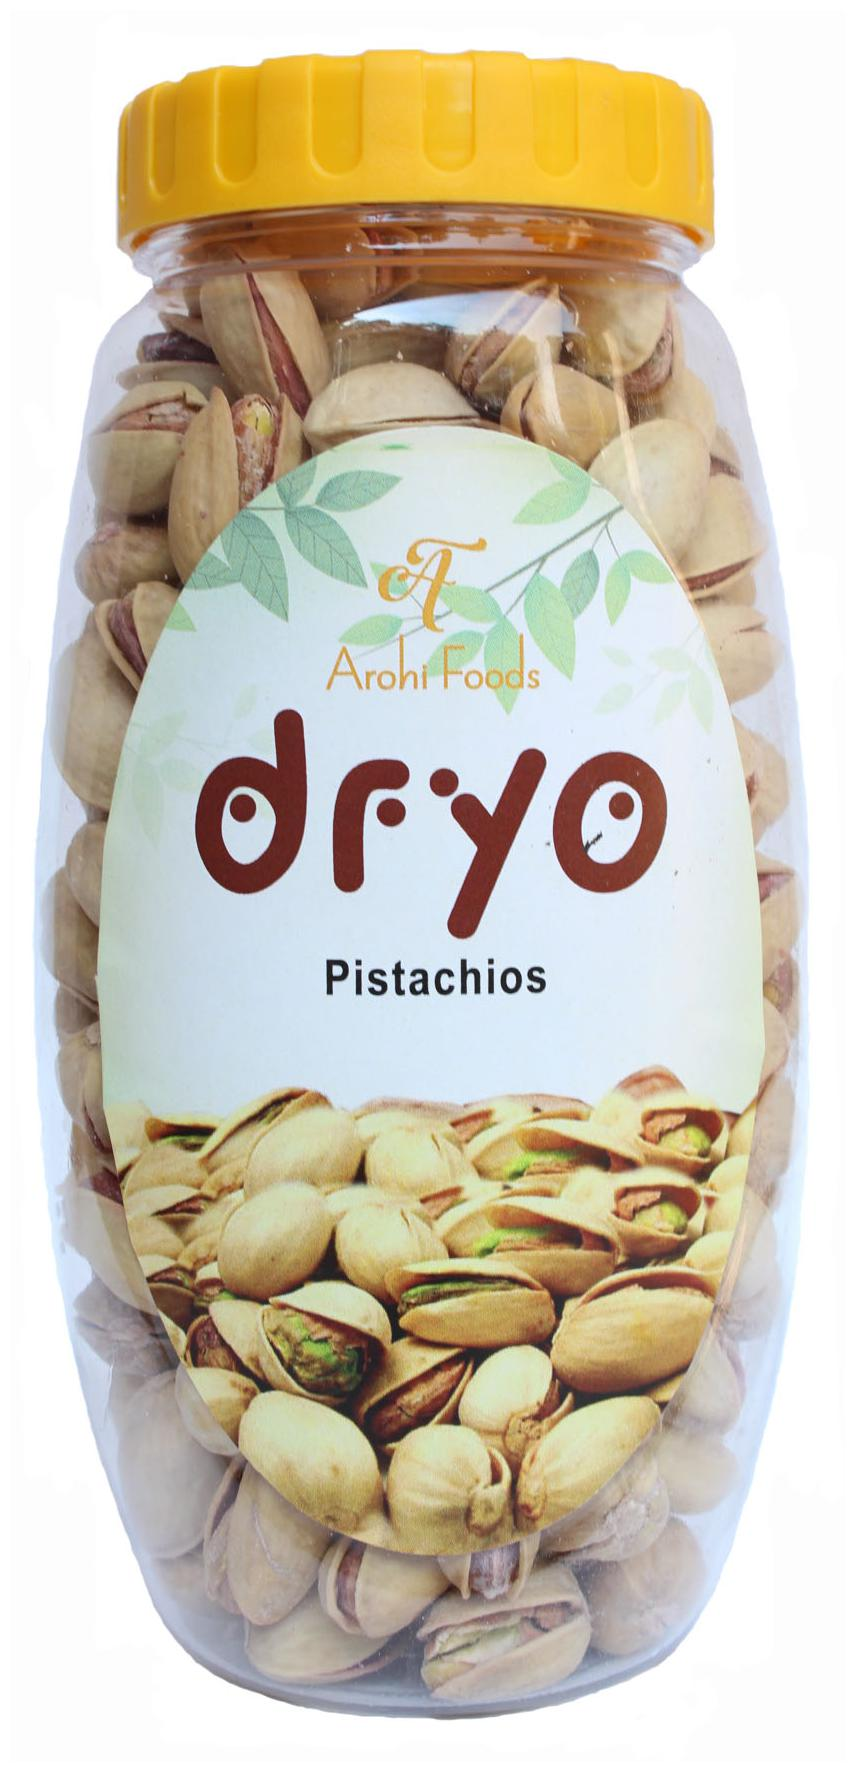JAR: (16, 38, 835, 1706)
